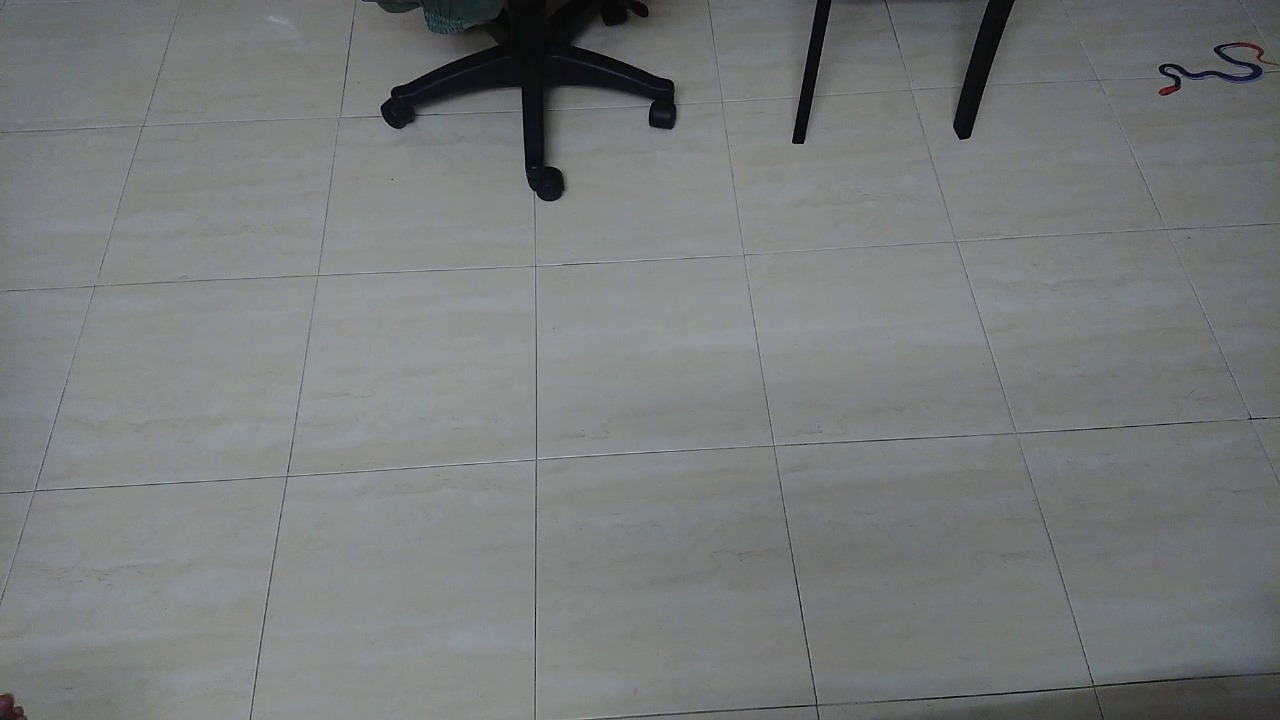snake: (1146, 31, 1280, 113)
